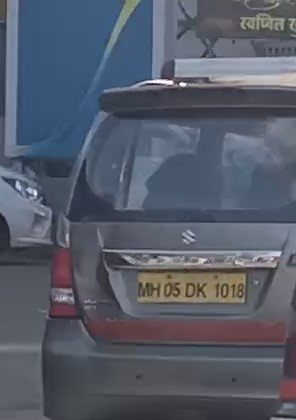MH05DK1018: (136, 271, 247, 303)
